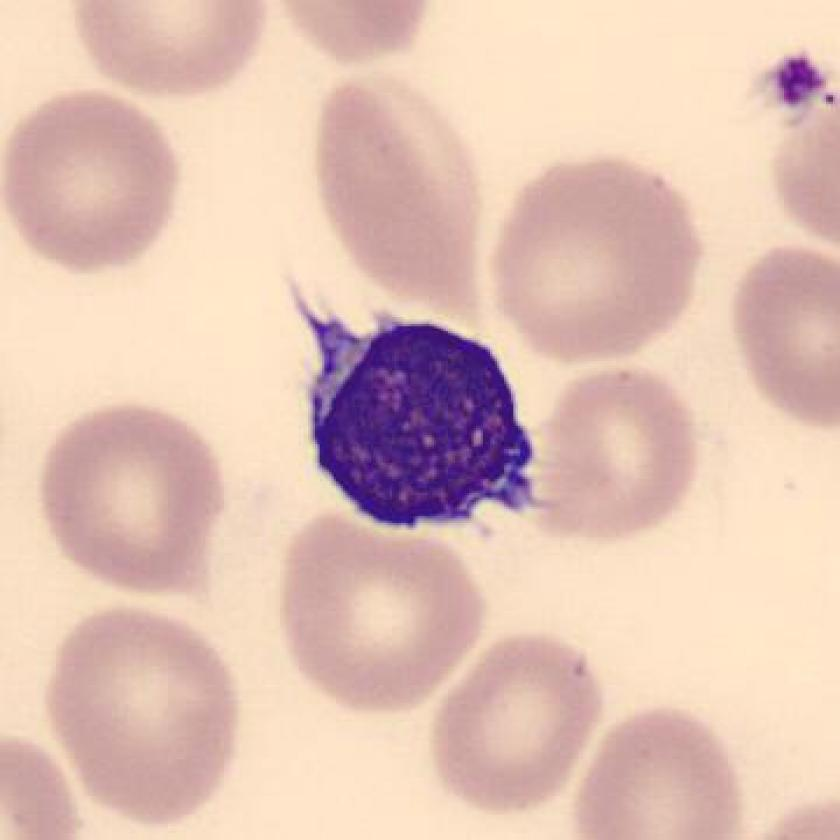lymphocyte: (276, 279, 552, 547)
